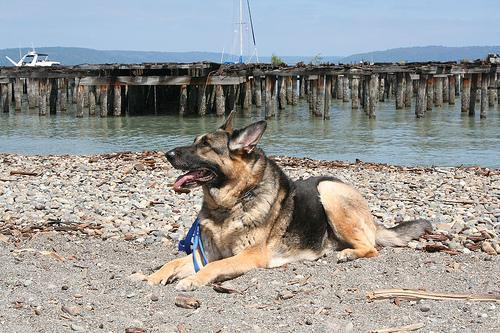German_shepherd: (140, 105, 435, 295)
